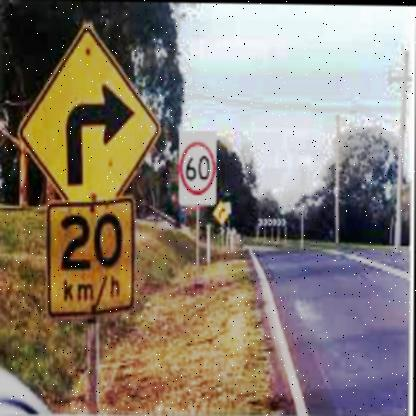Speed Limit -60-: (178, 138, 216, 196)
